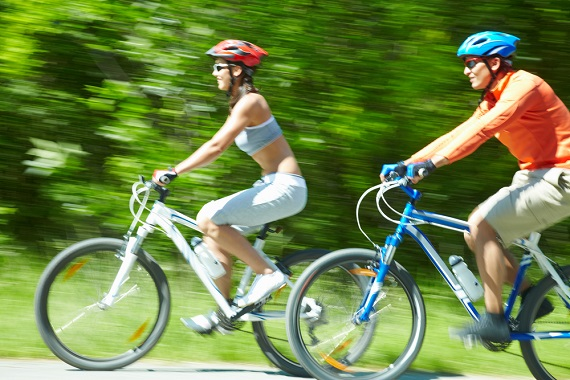helmet: (457, 31, 521, 90), (204, 39, 269, 92)
